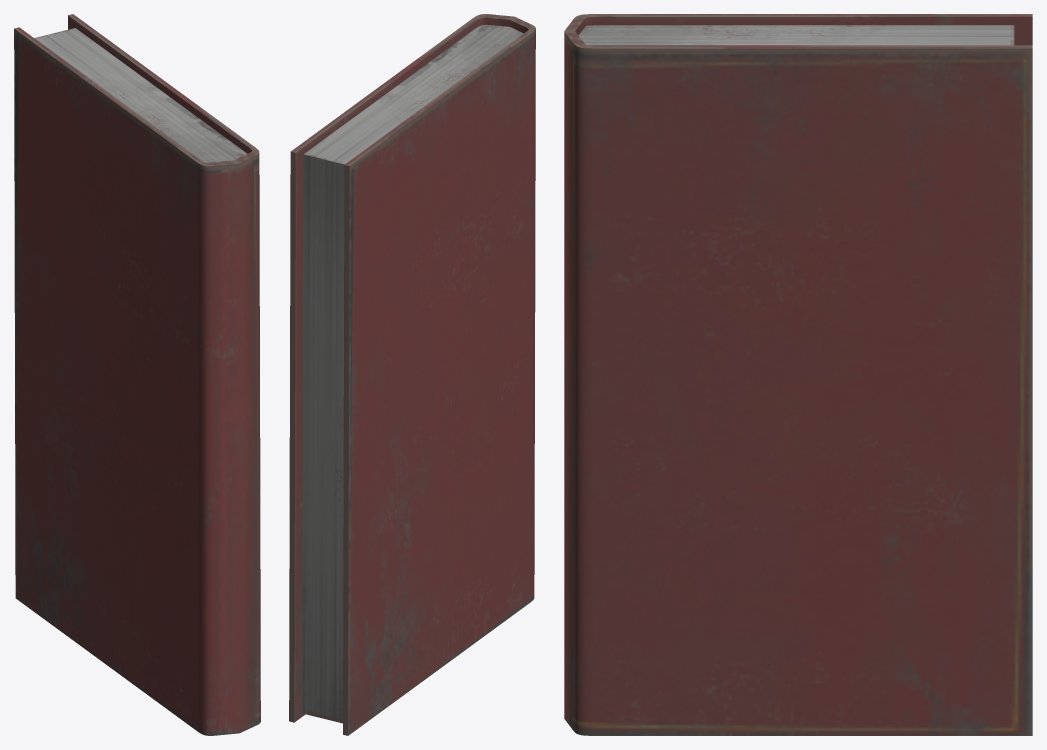
The model's file is SM_BookSet_A5.fbx.
3 views of the same model, side by side, from view 1: azimuth 30°, elevation 25°; view 2: azimuth 150°, elevation 25°; view 3: azimuth 270°, elevation 25° (orthographic). The views are drawn at different scales.
Parts seen in each view (by area): view 1: SM_BookSet_A5; view 2: SM_BookSet_A5; view 3: SM_BookSet_A5.
Boxes of the visible parts, x1,y1,x2,y2 form: SM_BookSet_A5: (14, 14, 260, 735); SM_BookSet_A5: (289, 14, 535, 735); SM_BookSet_A5: (564, 14, 1032, 735).
Size of the model in its own units: 2.81 by 15.64 by 25.3.
Materials: 1 (1 with a texture image).
